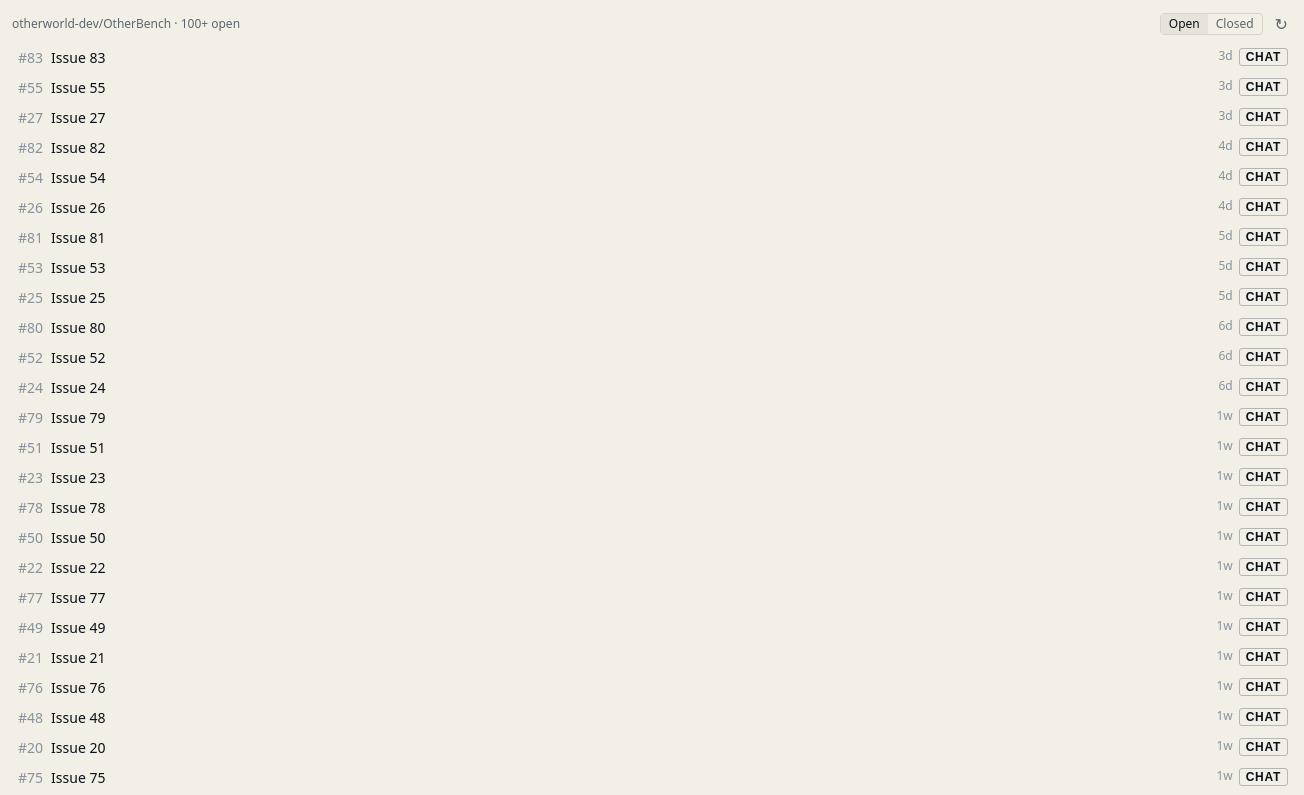
Scenario: IssuesTab › a list that hit the fetch limit says "100+", open or closed, since there may be more (M8)
Expected: the text "otherworld-dev/OtherBench · 100+ open" is shown, top-left (12, 15), bottom-right (240, 32)
Click the button "Closed": (1235, 24) top-left (1208, 14), bottom-right (1262, 34)
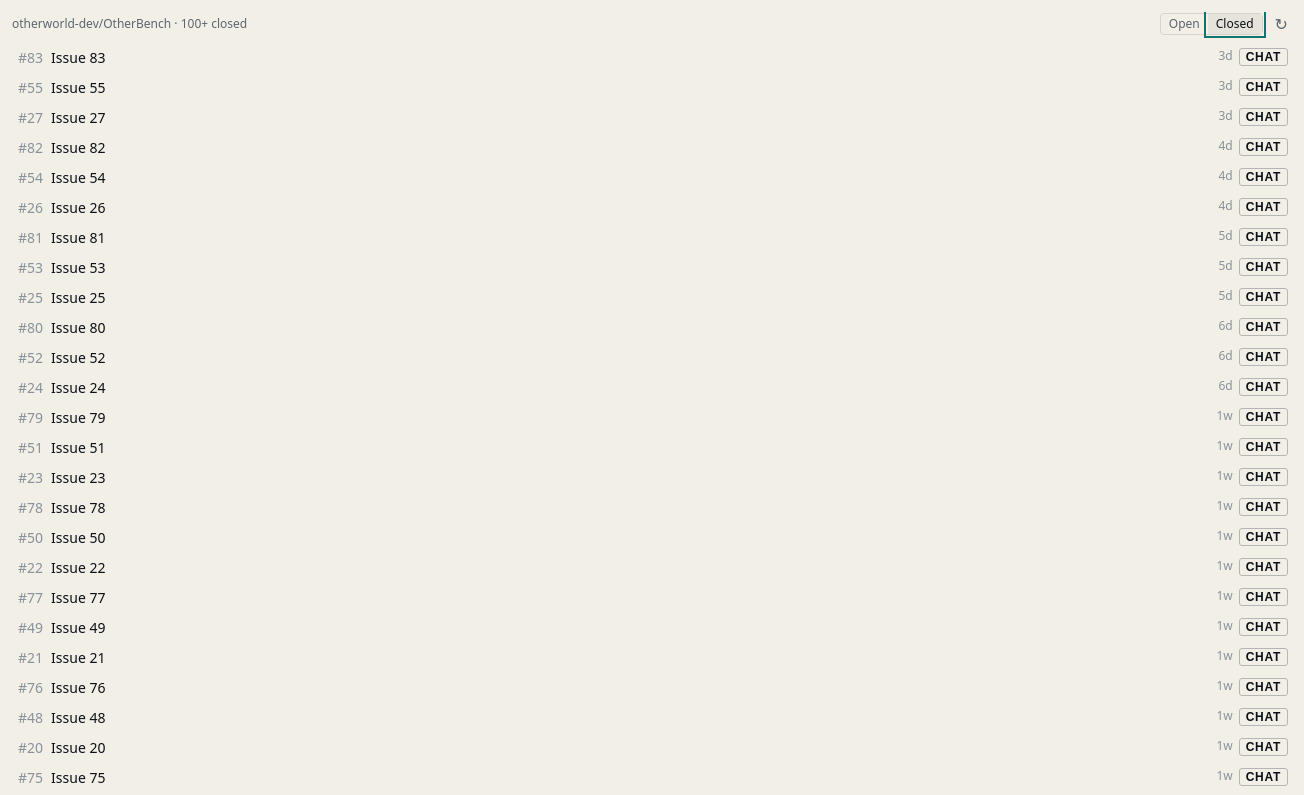
Expected: the text "otherworld-dev/OtherBench · 100+ closed" is shown, top-left (12, 15), bottom-right (247, 32)
